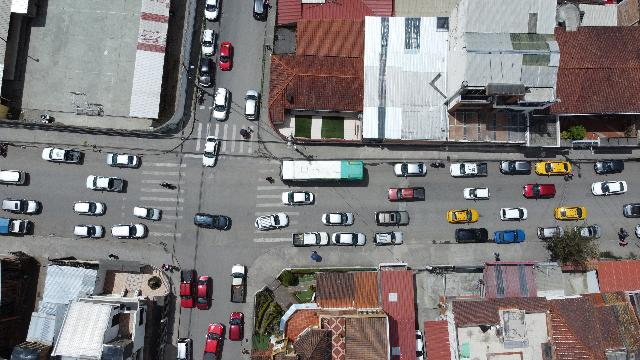Vehiculo: (203, 323, 225, 359), (41, 148, 80, 164), (255, 213, 289, 231), (194, 214, 230, 231), (86, 176, 124, 192), (110, 223, 148, 239), (2, 198, 40, 214), (180, 270, 196, 308), (591, 180, 627, 196), (535, 160, 571, 176), (197, 276, 213, 310), (202, 137, 220, 167), (450, 163, 488, 177), (213, 87, 229, 120), (456, 228, 488, 244), (0, 218, 32, 234), (375, 211, 409, 226), (388, 188, 424, 202), (293, 232, 329, 246), (228, 312, 244, 342), (448, 208, 478, 224), (106, 153, 140, 167), (522, 184, 556, 198), (332, 232, 366, 246), (281, 191, 315, 205), (322, 212, 354, 226), (74, 225, 106, 239), (394, 163, 426, 177), (74, 202, 106, 216), (499, 160, 531, 174), (198, 58, 214, 86), (554, 206, 586, 220), (373, 231, 403, 245), (594, 160, 624, 174), (244, 90, 258, 120), (494, 230, 524, 244), (1, 169, 26, 185), (500, 207, 528, 221), (134, 207, 162, 221), (574, 225, 602, 239), (202, 30, 216, 56), (538, 226, 564, 240), (204, 0, 220, 22), (177, 338, 193, 360), (231, 265, 247, 287), (463, 187, 489, 200), (220, 42, 232, 70), (253, 0, 269, 20), (415, 330, 423, 360), (622, 204, 640, 217), (635, 224, 639, 239)
